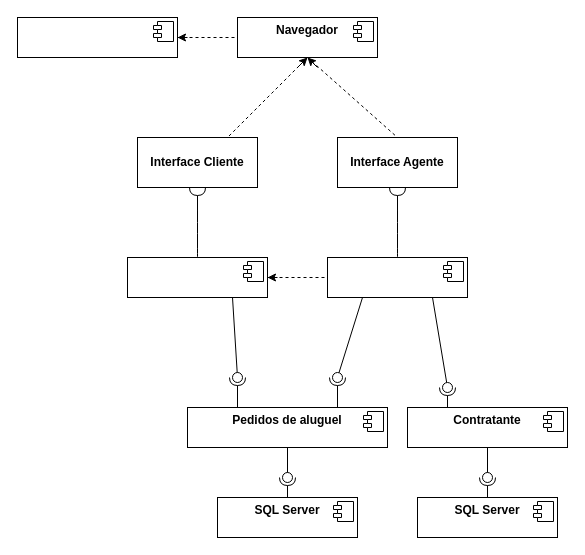
This 585x555 diagram has some shape labels left out. Here are the shapes that lost their labels. From the top down, the centre of each, then its label:
At [97,37]: "Servidor Central".
At [197,277]: "Cliente".
At [397,277]: "Agente".
